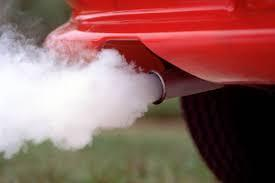smoke: (0, 14, 160, 159)
